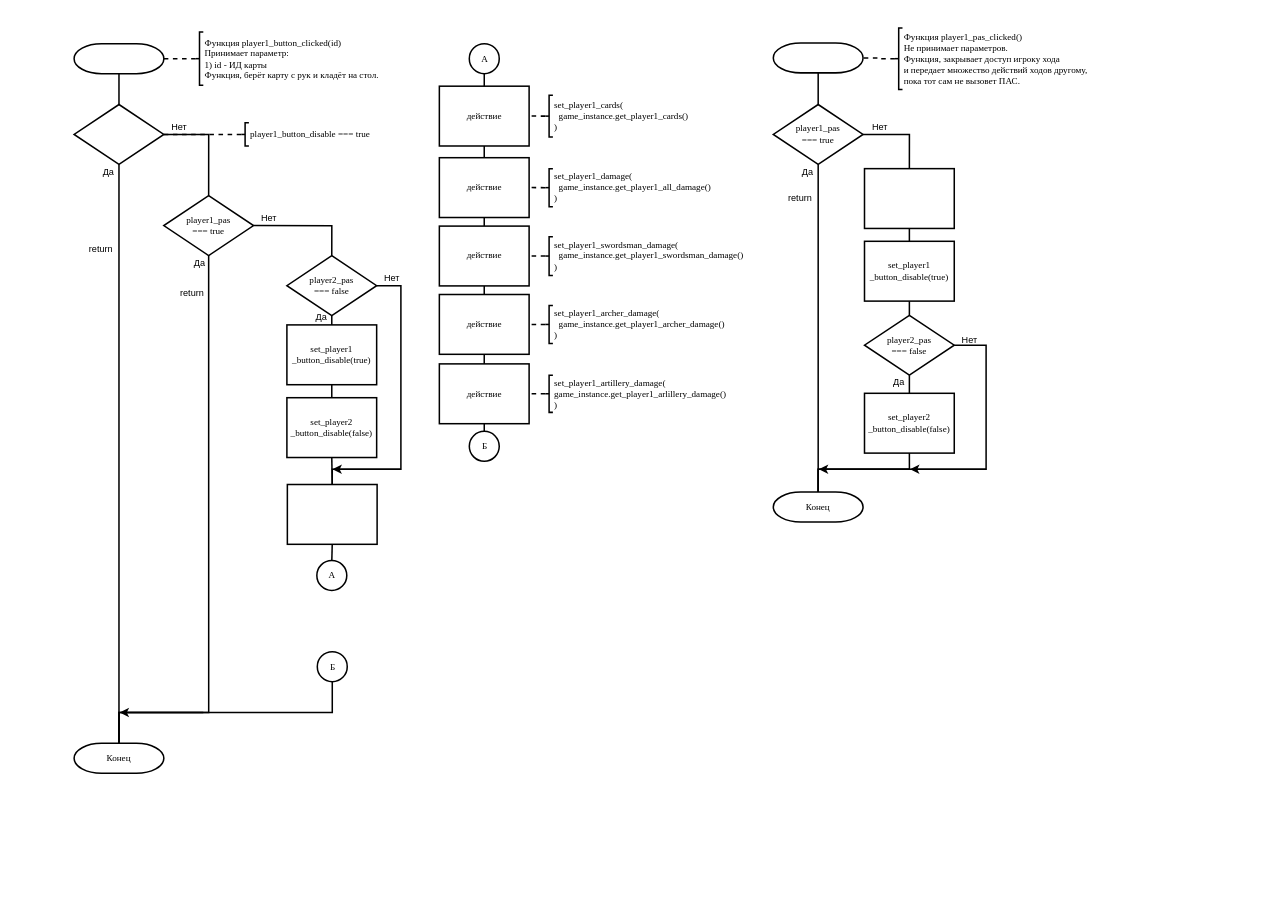
This 1283x914 diagram has some shape labels left out. The centre of each missing label's shape, as x and y in pixels:
"game_instance .player1_take_card(id)" goes at [331,514].
"player1_pas_clicked()" goes at [817,57].
"set_player1_pas(true)" goes at [909,198].
"Начало" goes at [118,58].
"условие" goes at [118,134].
